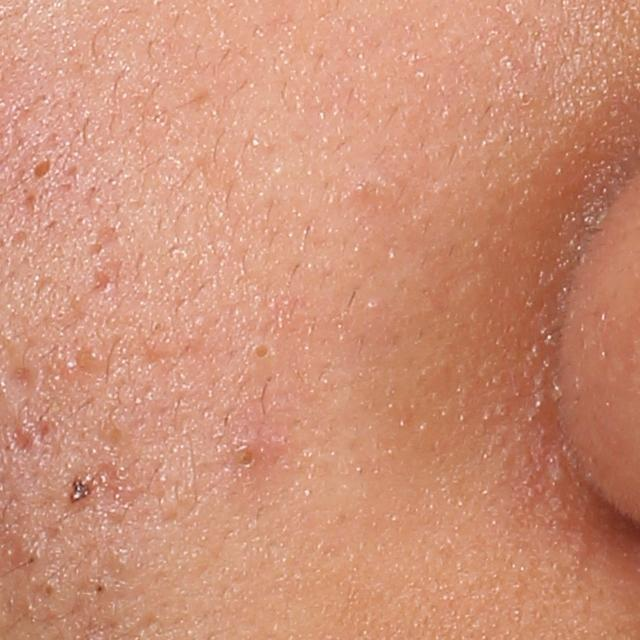atrophic_scar: (0, 361, 47, 406), (5, 421, 43, 458), (93, 267, 111, 294)
comedo: (24, 152, 60, 188), (226, 443, 262, 477), (247, 335, 278, 369), (80, 344, 109, 374), (87, 576, 115, 607), (35, 578, 60, 606), (20, 547, 40, 572)
nevus: (63, 468, 101, 508)
